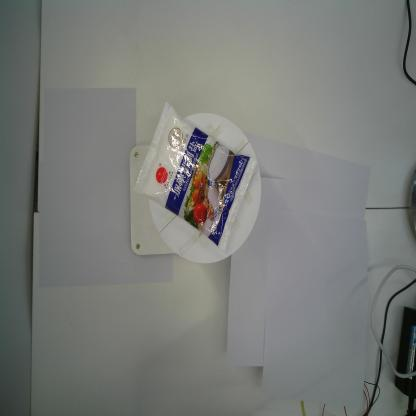Seasoner: (133, 101, 257, 253)
